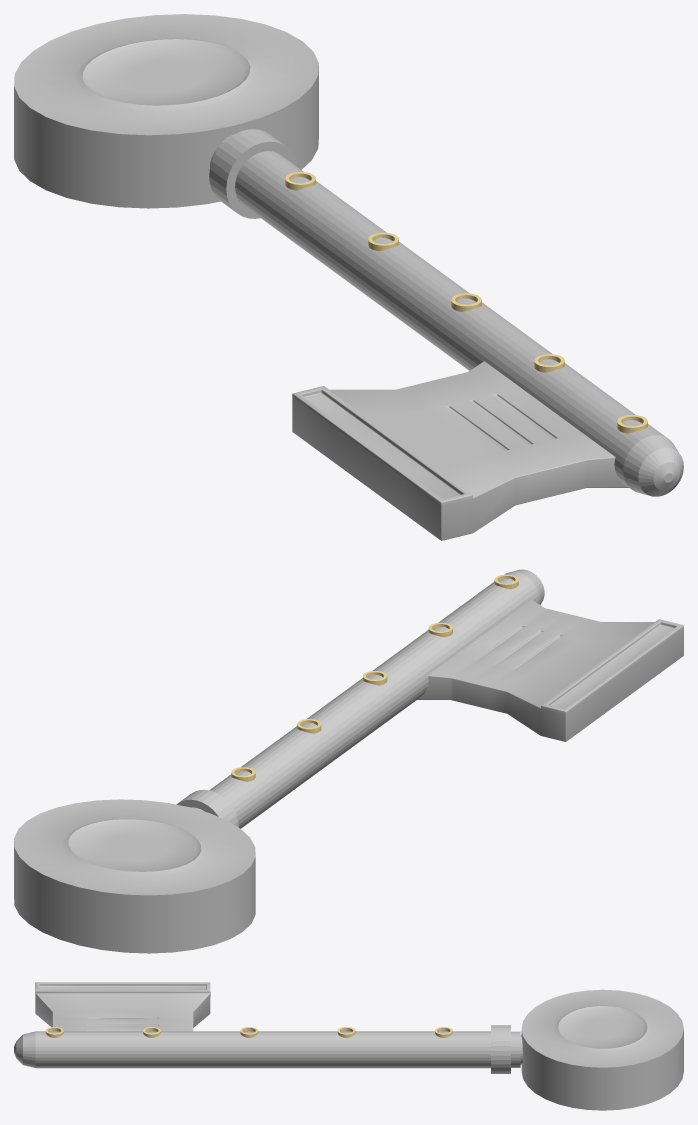
Rendered from PZ_KEY_.fbx.
3 views of the same model, one above another, from view 1: azimuth 30°, elevation 25°; view 2: azimuth 150°, elevation 25°; view 3: azimuth 270°, elevation 25° (orthographic). The views are drawn at different scales.
Parts seen in each view (by area): view 1: PZ_KEY; view 2: PZ_KEY; view 3: PZ_KEY.
Part boxes in pixels (bbox=[...]): PZ_KEY: bbox=[14, 14, 683, 540]; PZ_KEY: bbox=[14, 569, 683, 953]; PZ_KEY: bbox=[14, 982, 683, 1110].
Bounding box in the file's own units: 5.59 × 1.17 × 16.
